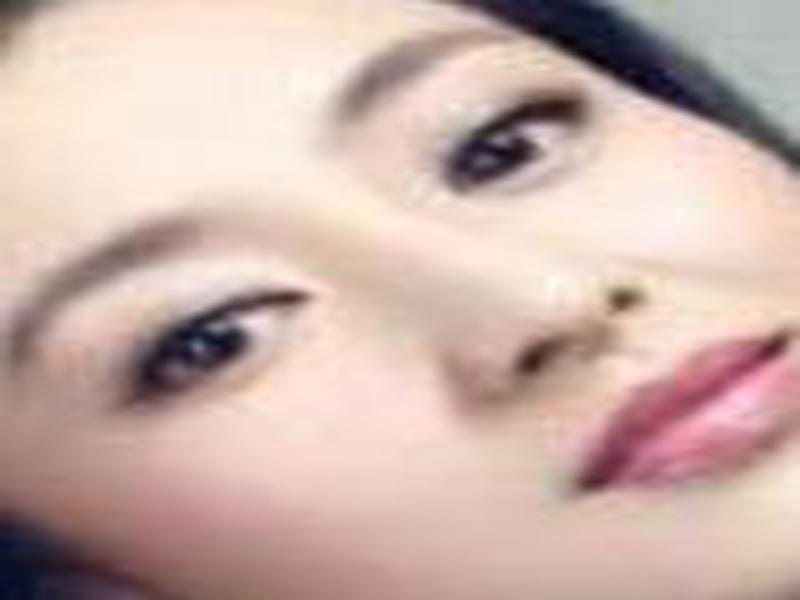without_mask: (1, 8, 800, 600)
